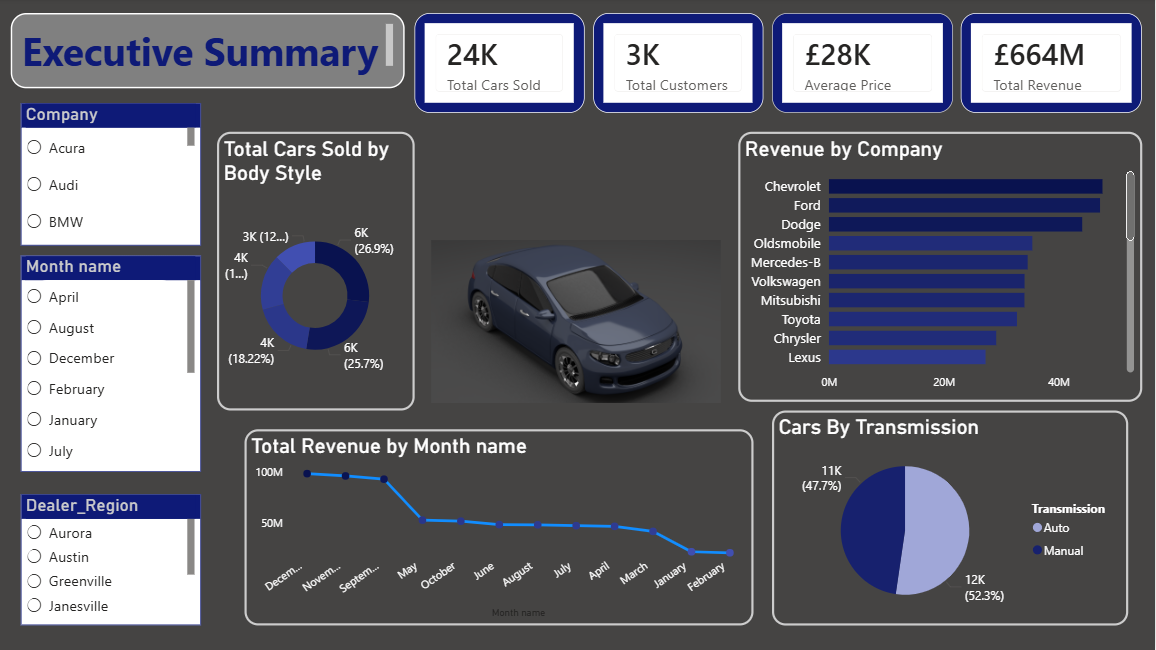

Layout of this report page (visuals, bound fields, positions):
{"tool":"powerbi","page":{"name":"Executive Summary","canvas":[1280,720],"ordinal":0},"visuals":[{"type":"cardVisual","fields":{"Data":["car_data.Total Cars Sold"]},"box":[461.3,16.6,187.8,110.5],"z":0},{"type":"cardVisual","fields":{"Data":["car_data.Total Revenue"]},"box":[1064.8,16.6,200.3,110.5],"z":1000},{"type":"cardVisual","fields":{"Data":["car_data.Total Customers"]},"box":[658.8,16.6,187.8,110.5],"z":2000},{"type":"cardVisual","fields":{"Data":["car_data.Average Price"]},"box":[856.3,16.6,200.3,110.5],"z":3000},{"type":"lineChart","fields":{"Y":["car_data.Total Revenue"],"Category":["car_data.Month name"]},"box":[273.5,476.5,562.1,216.8],"z":4000},{"type":"clusteredBarChart","title":"Revenue by Company","fields":{"Category":["car_data.Company"],"Y":["car_data.Total Revenue"]},"box":[819,147.8,446.1,298.3],"z":5000},{"type":"donutChart","fields":{"Y":["car_data.Total Cars Sold"],"Category":["car_data.Body Style"]},"box":[243.1,147.8,218.2,308],"z":6000},{"type":"pieChart","title":"Cars By Transmission","fields":{"Y":["car_data.Total Cars Sold"],"Category":["car_data.Transmission"]},"box":[856.3,455.8,393.6,237.5],"z":7000},{"type":"listSlicer","fields":{"Values":["car_data.Month name"]},"box":[26.2,284.5,198.9,238.9],"z":8000},{"type":"listSlicer","fields":{"Values":["car_data.Company"]},"box":[26.2,116,198.9,157.4],"z":9000},{"type":"listSlicer","fields":{"Values":["car_data.Dealer_Region"]},"box":[26.2,548.3,198.9,145],"z":11000},{"type":"textbox","box":[15.2,16.6,435,82.9],"z":11001}]}

Visuals, with their boxes in screenshot pixels (x1, y1, x2, y2), scaled from the page's 1280x720 canvas onto the 1156x650 screenshot:
cardVisual - car_data.Total Cars Sold: pyautogui.locateOnScreen(417, 15, 586, 115)
cardVisual - car_data.Total Revenue: pyautogui.locateOnScreen(962, 15, 1143, 115)
cardVisual - car_data.Total Customers: pyautogui.locateOnScreen(595, 15, 765, 115)
cardVisual - car_data.Average Price: pyautogui.locateOnScreen(773, 15, 954, 115)
lineChart - car_data.Total Revenue x car_data.Month name: pyautogui.locateOnScreen(247, 430, 755, 626)
"Revenue by Company" clusteredBarChart: pyautogui.locateOnScreen(740, 133, 1143, 403)
donutChart - car_data.Total Cars Sold x car_data.Body Style: pyautogui.locateOnScreen(220, 133, 417, 411)
"Cars By Transmission" pieChart: pyautogui.locateOnScreen(773, 411, 1129, 626)
listSlicer - car_data.Month name: pyautogui.locateOnScreen(24, 257, 203, 473)
listSlicer - car_data.Company: pyautogui.locateOnScreen(24, 105, 203, 247)
listSlicer - car_data.Dealer_Region: pyautogui.locateOnScreen(24, 495, 203, 626)
textbox: pyautogui.locateOnScreen(14, 15, 407, 90)
